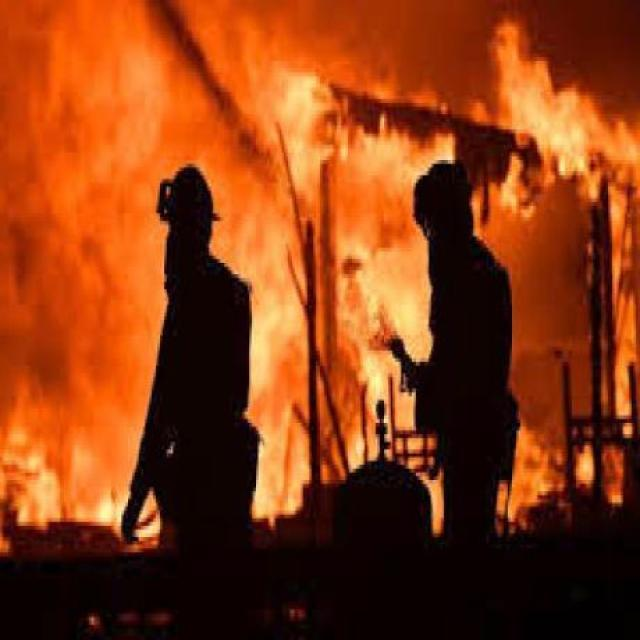Fire: (222, 85, 438, 482), (470, 18, 640, 223), (0, 415, 174, 548), (476, 415, 640, 520), (590, 223, 640, 436)
Smoke: (3, 3, 164, 399), (173, 0, 469, 89)
